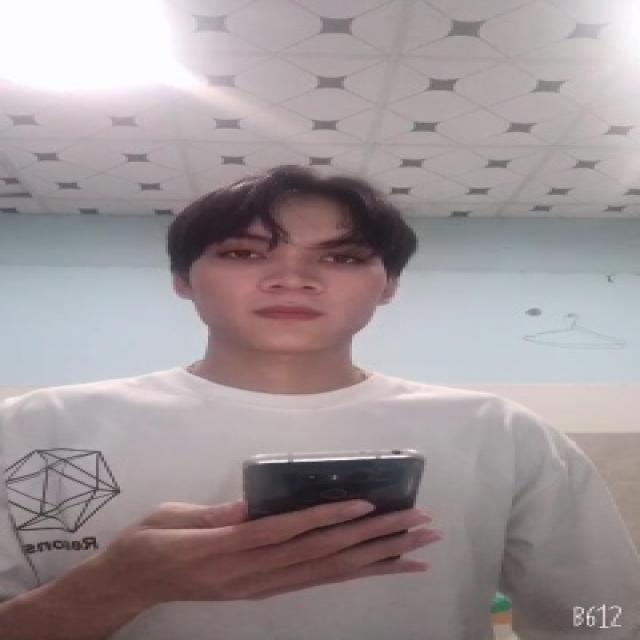Phone: (244, 449, 425, 572)
